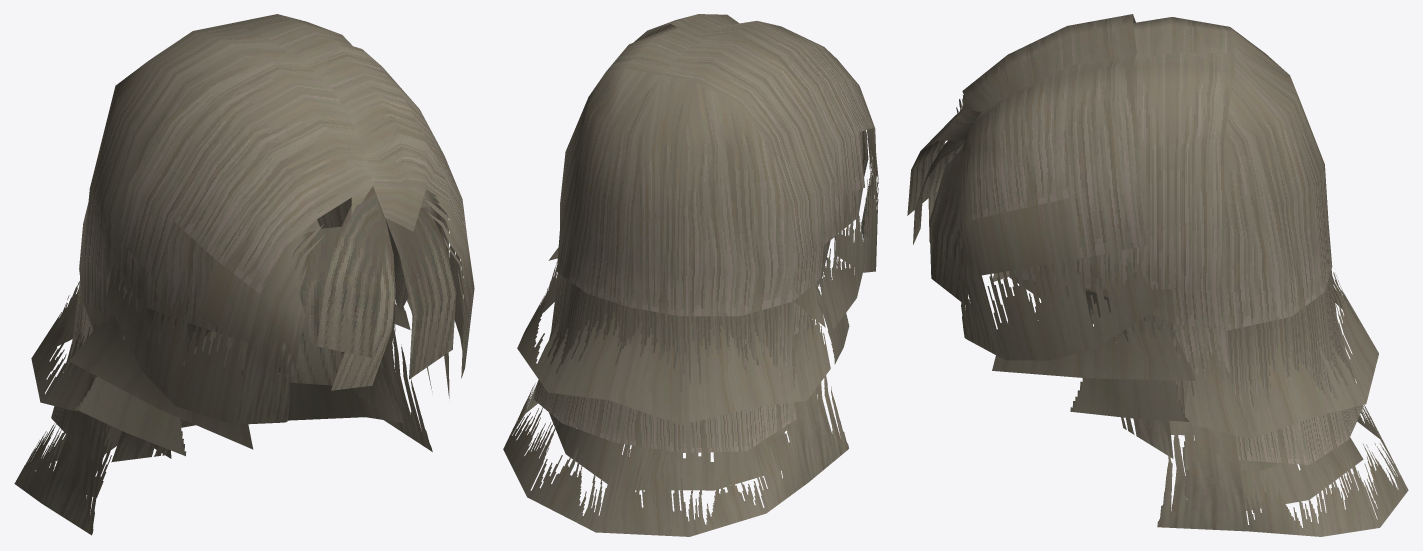
Rendered from rai_hair_mh_mt.OBJ.
The picture shows the model from 3 angles, left to right: view 1: azimuth 30°, elevation 25°; view 2: azimuth 150°, elevation 25°; view 3: azimuth 270°, elevation 25°; orthographic projection. The views are drawn at different scales.
Visible parts, largest first — view 1: Obj_0001, Obj_0028, Obj_0014, Obj_0006, Obj_0051, Obj_0029, Obj_002E, Obj_0010, Obj_0030, Obj_002A, Obj_002F, Obj_0057 (+27 smaller); view 2: Obj_0001, Obj_0003, Obj_0045, Obj_0019, Obj_001B, Obj_004E, Obj_000E, Obj_000C, Obj_0011, Obj_0047, Obj_0046, Obj_0051 (+31 smaller); view 3: Obj_0001, Obj_0004, Obj_0031, Obj_0013, Obj_0053, Obj_0005, Obj_000D, Obj_0032, Obj_001E, Obj_003D, Obj_0002, Obj_0058 (+31 smaller).
Boxes of the visible parts, <box> form: Obj_0001: <box>115,14,440,304</box>; Obj_0028: <box>292,205,395,357</box>; Obj_0014: <box>129,120,316,281</box>; Obj_0006: <box>174,160,408,311</box>; Obj_0051: <box>41,295,292,535</box>; Obj_0029: <box>298,207,456,379</box>; Obj_002E: <box>142,288,240,406</box>; Obj_0010: <box>106,135,233,338</box>; Obj_0030: <box>69,314,253,449</box>; Obj_002A: <box>280,186,391,390</box>; Obj_002F: <box>197,260,260,343</box>; Obj_0057: <box>83,248,305,366</box>; Obj_0001: <box>586,14,852,246</box>; Obj_0003: <box>679,146,796,316</box>; Obj_0045: <box>503,407,689,536</box>; Obj_0019: <box>573,113,739,452</box>; Obj_001B: <box>630,148,796,315</box>; Obj_004E: <box>527,447,766,536</box>; Obj_000E: <box>587,198,741,307</box>; Obj_000C: <box>738,301,796,450</box>; Obj_0011: <box>631,139,679,273</box>; Obj_0047: <box>609,298,821,424</box>; Obj_0046: <box>548,348,808,513</box>; Obj_0051: <box>793,138,876,482</box>; Obj_0001: <box>967,14,1297,155</box>; Obj_0004: <box>1172,145,1227,329</box>; Obj_0031: <box>987,260,1095,360</box>; Obj_0013: <box>962,55,1148,244</box>; Obj_0053: <box>1157,353,1248,531</box>; Obj_0005: <box>1223,145,1324,316</box>; Obj_000D: <box>1227,317,1309,464</box>; Obj_0032: <box>972,198,1078,275</box>; Obj_001E: <box>1223,133,1328,286</box>; Obj_003D: <box>1086,309,1195,380</box>; Obj_0002: <box>1119,150,1172,288</box>; Obj_0058: <box>1070,350,1188,421</box>.
Bounding box in the file's own units: 0.0975 × 0.1345 × 0.1331.
